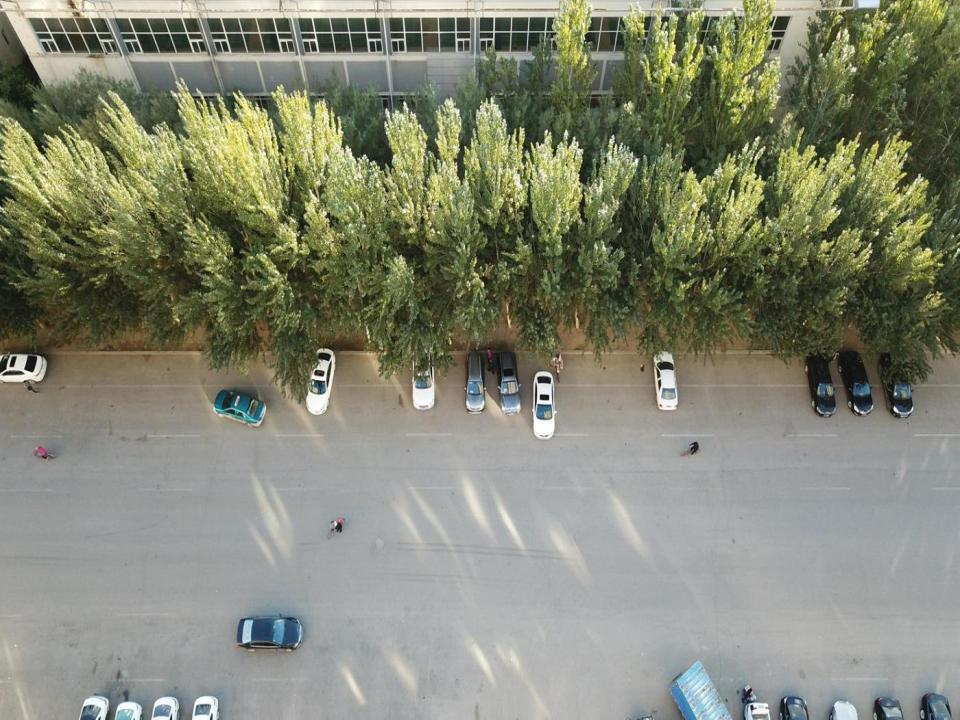car: (835, 349, 874, 417), (236, 614, 302, 653), (879, 349, 913, 417), (213, 388, 267, 430), (494, 348, 522, 415), (306, 348, 335, 411), (807, 352, 835, 416), (532, 372, 556, 439), (410, 344, 435, 408), (462, 351, 486, 414), (653, 351, 678, 410), (0, 352, 46, 384), (918, 693, 953, 719), (871, 693, 906, 719), (77, 695, 108, 719), (780, 695, 809, 719), (826, 701, 862, 719), (190, 696, 220, 717), (114, 698, 144, 719), (152, 698, 181, 719), (742, 701, 774, 719)
truck: (672, 661, 730, 719)
